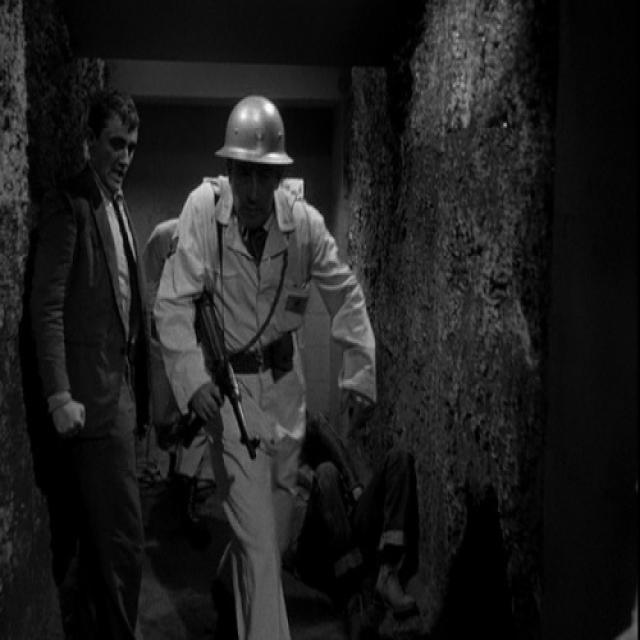rifle: (197, 294, 269, 469)
